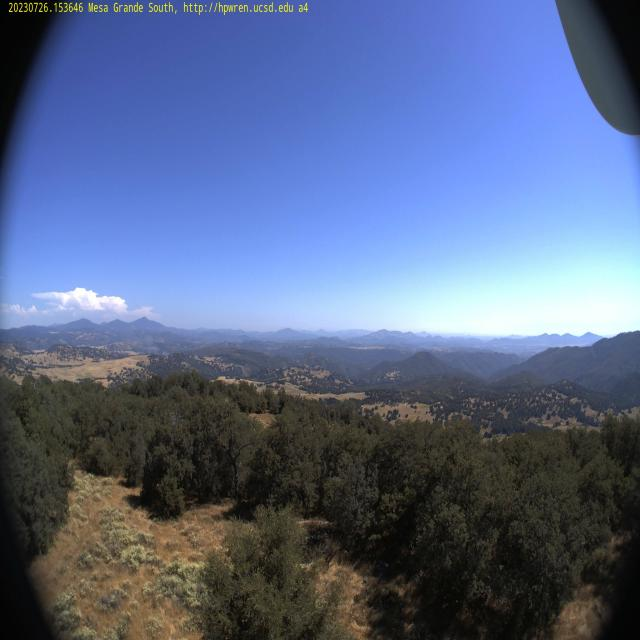smoke: (109, 310, 155, 353), (140, 346, 170, 358)
